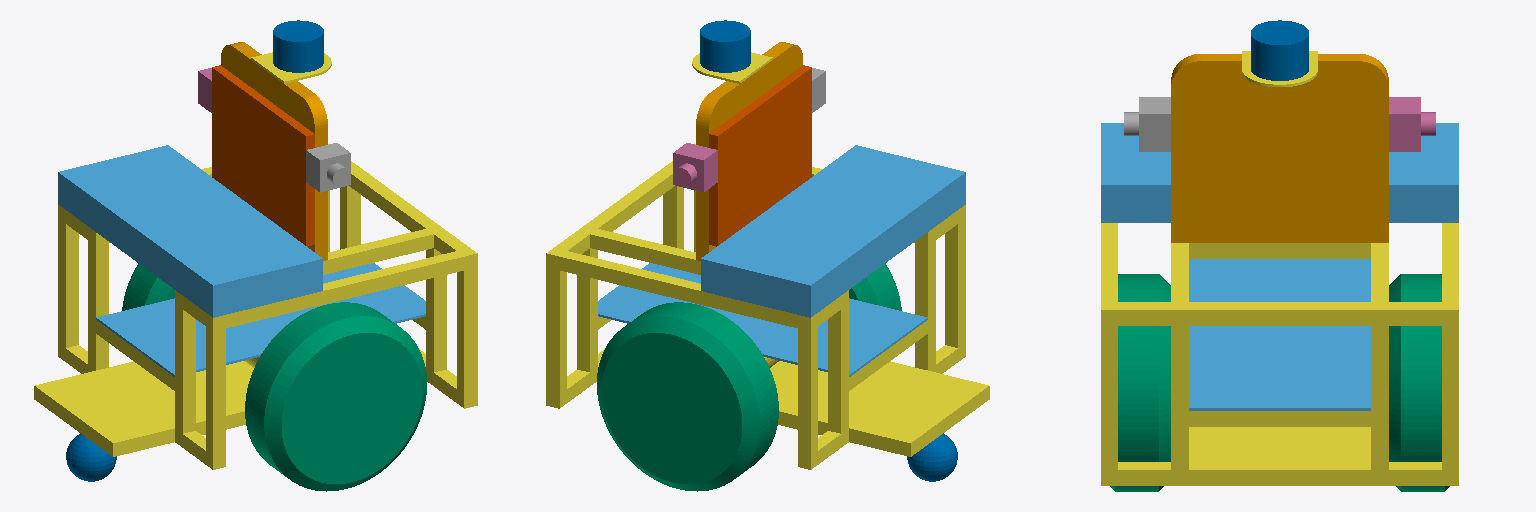
URDF robot description (sirius):
<robot name="sirius">
<link name="base_link"/>

<joint name="base_link_to_Frame" type="fixed">
    <parent link="base_link"/>
    <child link="Frame"/>
    <!-- 上に455mm, Z軸で１８０度回転 -->
    <origin xyz="0 0 0.455" rpy="0 0 3.141592653589793"/>
</joint>

<link name="MDF">
    <inertial>
        <origin xyz="0.0 0.0 -0.1875" rpy="0.0 0.0 0.0" />
        <mass value="7.300499999999998" />
        <inertia ixx="0.058480046875000025" iyy="0.21903020937500006" izz="0.2774798375" ixy="0.0" iyz="1.4279066817834973e-18" ixz="1.4279066817834973e-18" />
    </inertial>
    <visual name="MDF_visual">
        <origin xyz="0.0 0.0 0.0" rpy="0.0 0.0 0.0" />
        <geometry>
            <mesh filename="package://Sirius_description/meshes/MDF.stl" scale="0.001 0.001 0.001" />
        </geometry>
    </visual>
    <collision name="MDF_collision">
        <origin xyz="0.0 0.0 0.0" rpy="0.0 0.0 0.0" />
        <geometry>
            <mesh filename="package://Sirius_description/meshes/MDF.stl" scale="0.001 0.001 0.001" />
        </geometry>
    </collision>
</link>
<link name="Right_Wheel">
    <inertial>
        <origin xyz="-2.4424906541753444e-17 3.552713678800501e-17 0.06249999999999993" rpy="0.0 -0.0 0.0" />
        <mass value="100.05890789374806" />
        <inertia ixx="0.9387204983052868" iyy="0.9387204983053428" izz="1.6349121401939106" ixy="1.9984014443252818e-15" iyz="0.0" ixz="-1.1102230246251565e-16" />
    </inertial>
    <visual name="Right_Wheel_visual">
        <origin xyz="0.015 -0.27 -0.18" rpy="1.5707963267948966 -0.0 0.0" />
        <geometry>
            <mesh filename="package://Sirius_description/meshes/Right_Wheel.stl" scale="0.001 0.001 0.001" />
        </geometry>
    </visual>
    <collision name="Right_Wheel_collision">
        <origin xyz="0.015 -0.27 -0.18" rpy="1.5707963267948966 -0.0 0.0" />
        <geometry>
            <mesh filename="package://Sirius_description/meshes/Right_Wheel.stl" scale="0.001 0.001 0.001" />
        </geometry>
    </collision>
</link>
<link name="LiDAR_Support">
    <inertial>
        <origin xyz="-0.052820883669245824 1.1537955902002506e-16 0.3425" rpy="0.0 0.0 0.0" />
        <mass value="0.3093933392343076" />
        <inertia ixx="0.0005861375596076246" iyy="0.000575193141818392" izz="0.0011600415625125382" ixy="-8.146523068880001e-19" iyz="-8.366640713575181e-19" ixz="-1.734723475976807e-18" />
    </inertial>
    <visual name="LiDAR_Support_visual">
        <origin xyz="0.0 0.0 0.0" rpy="0.0 0.0 0.0" />
        <geometry>
            <mesh filename="package://Sirius_description/meshes/LiDAR_Support.stl" scale="0.001 0.001 0.001" />
        </geometry>
    </visual>
    <collision name="LiDAR_Support_collision">
        <origin xyz="0.0 0.0 0.0" rpy="0.0 0.0 0.0" />
        <geometry>
            <mesh filename="package://Sirius_description/meshes/LiDAR_Support.stl" scale="0.001 0.001 0.001" />
        </geometry>
    </collision>
</link>
<link name="LiDAR">
    <inertial>
        <origin xyz="-0.07 -2.4125096250508447e-17 0.37599999999999995" rpy="0.0 0.0 0.0" />
        <mass value="4.439070419522379" />
        <inertia ixx="0.004692097433435238" iyy="0.004692097433435571" izz="0.005548838024402897" ixy="-1.0709300113376216e-18" iyz="-1.7134880181401884e-18" ixz="0.0" />
    </inertial>
    <visual name="LiDAR_visual">
        <origin xyz="0.0 0.0 0.0" rpy="0.0 0.0 0.0" />
        <geometry>
            <mesh filename="package://Sirius_description/meshes/LiDAR.stl" scale="0.001 0.001 0.001" />
        </geometry>
    </visual>
    <collision name="LiDAR_collision">
        <origin xyz="0.0 0.0 0.0" rpy="0.0 0.0 0.0" />
        <geometry>
            <mesh filename="package://Sirius_description/meshes/LiDAR.stl" scale="0.001 0.001 0.001" />
        </geometry>
    </collision>
</link>
<link name="Display">
    <inertial>
        <origin xyz="0.009999999999999998 0.0 0.16" rpy="0.0 0.0 0.0" />
        <mass value="13.941599999999996" />
        <inertia ixx="0.22597009999999979" iyy="0.06738439999999996" izz="0.1595151399999998" ixy="0.0" iyz="4.5693013817071915e-17" ixz="3.469446951953614e-18" />
    </inertial>
    <visual name="Display_visual">
        <origin xyz="0.0 0.0 0.0" rpy="0.0 0.0 0.0" />
        <geometry>
            <mesh filename="package://Sirius_description/meshes/Display.stl" scale="0.001 0.001 0.001" />
        </geometry>
    </visual>
    <collision name="Display_collision">
        <origin xyz="0.0 0.0 0.0" rpy="0.0 0.0 0.0" />
        <geometry>
            <mesh filename="package://Sirius_description/meshes/Display.stl" scale="0.001 0.001 0.001" />
        </geometry>
    </collision>
</link>
<link name="Left_ESB">
    <inertial>
        <origin xyz="-0.014999999999999998 -0.21667604038411042 0.215" rpy="0.0 0.0 0.0" />
        <mass value="2.3621900233067987" />
        <inertia ixx="0.0017880560898025089" iyy="0.0017770425879946872" izz="0.0017880560898024533" ixy="0.0" iyz="0.0" ixz="-1.734723475976807e-18" />
    </inertial>
    <visual name="Left_ESB_visual">
        <origin xyz="0.0 0.0 0.0" rpy="0.0 0.0 0.0" />
        <geometry>
            <mesh filename="package://Sirius_description/meshes/Left_ESB.stl" scale="0.001 0.001 0.001" />
        </geometry>
    </visual>
    <collision name="Left_ESB_collision">
        <origin xyz="0.0 0.0 0.0" rpy="0.0 0.0 0.0" />
        <geometry>
            <mesh filename="package://Sirius_description/meshes/Left_ESB.stl" scale="0.001 0.001 0.001" />
        </geometry>
    </collision>
</link>
<link name="Right_ESB">
    <inertial>
        <origin xyz="-0.014999999999999998 0.21667604038411042 0.215" rpy="0.0 0.0 0.0" />
        <mass value="2.3621900233067987" />
        <inertia ixx="0.0017880560898025089" iyy="0.0017770425879946872" izz="0.001788056089802481" ixy="-1.734723475976807e-18" iyz="0.0" ixz="-1.734723475976807e-18" />
    </inertial>
    <visual name="Right_ESB_visual">
        <origin xyz="0.0 0.0 0.0" rpy="0.0 0.0 0.0" />
        <geometry>
            <mesh filename="package://Sirius_description/meshes/Right_ESB.stl" scale="0.001 0.001 0.001" />
        </geometry>
    </visual>
    <collision name="Right_ESB_collision">
        <origin xyz="0.0 0.0 0.0" rpy="0.0 0.0 0.0" />
        <geometry>
            <mesh filename="package://Sirius_description/meshes/Right_ESB.stl" scale="0.001 0.001 0.001" />
        </geometry>
    </collision>
</link>
<link name="Display_Bg">
    <inertial>
        <origin xyz="-0.014999999999999998 0.0 0.16863359351883772" rpy="0.0 0.0 0.0" />
        <mass value="29.373206337400482" />
        <inertia ixx="0.6092684729448462" iyy="0.2811472839601523" izz="0.3325271699353042" ixy="2.2846506908535957e-17" iyz="0.0" ixz="1.3877787807814457e-17" />
    </inertial>
    <visual name="Display_Bg_visual">
        <origin xyz="0.0 0.0 0.0" rpy="0.0 0.0 0.0" />
        <geometry>
            <mesh filename="package://Sirius_description/meshes/Display_Bg.stl" scale="0.001 0.001 0.001" />
        </geometry>
    </visual>
    <collision name="Display_Bg_collision">
        <origin xyz="0.0 0.0 0.0" rpy="0.0 0.0 0.0" />
        <geometry>
            <mesh filename="package://Sirius_description/meshes/Display_Bg.stl" scale="0.001 0.001 0.001" />
        </geometry>
    </collision>
</link>
<link name="Case">
    <inertial>
        <origin xyz="0.17500000000000002 0.0 0.035" rpy="0.0 0.0 0.0" />
        <mass value="83.79874999999998" />
        <inertia ixx="2.6326773958333343" iyy="0.47066964583333304" izz="3.034911395833333" ixy="0.0" iyz="-1.8277205526828766e-16" ixz="1.1102230246251565e-16" />
    </inertial>
    <visual name="Case_visual">
        <origin xyz="0.0 0.0 0.0" rpy="0.0 0.0 0.0" />
        <geometry>
            <mesh filename="package://Sirius_description/meshes/Case.stl" scale="0.001 0.001 0.001" />
        </geometry>
    </visual>
    <collision name="Case_collision">
        <origin xyz="0.0 0.0 0.0" rpy="0.0 0.0 0.0" />
        <geometry>
            <mesh filename="package://Sirius_description/meshes/Case.stl" scale="0.001 0.001 0.001" />
        </geometry>
    </collision>
</link>
<link name="Left_Wheel">
    <inertial>
        <origin xyz="-2.4424906541753444e-17 -3.552713678800501e-17 0.0625" rpy="0.0 -0.0 0.0" />
        <mass value="100.05890789374806" />
        <inertia ixx="0.9387204983052886" iyy="0.9387204983053437" izz="1.6349121401939106" ixy="-1.9984014443252818e-15" iyz="-2.6645352591003757e-15" ixz="-5.551115123125783e-17" />
    </inertial>
    <visual name="Left_Wheel_visual">
        <origin xyz="0.015 0.27 -0.18" rpy="-1.5707963267948966 -0.0 0.0" />
        <geometry>
            <mesh filename="package://Sirius_description/meshes/Left_Wheel.stl" scale="0.001 0.001 0.001" />
        </geometry>
    </visual>
    <collision name="Left_Wheel_collision">
        <origin xyz="0.015 0.27 -0.18" rpy="-1.5707963267948966 -0.0 0.0" />
        <geometry>
            <mesh filename="package://Sirius_description/meshes/Left_Wheel.stl" scale="0.001 0.001 0.001" />
        </geometry>
    </collision>
</link>
<link name="Frame">
    <inertial>
        <origin xyz="0.02336046562605979 -3.391591384159738e-16 -0.22499410556332286" rpy="0.0 0.0 0.0" />
        <mass value="121.25196634073023" />
        <inertia ixx="4.632371381951651" iyy="7.237356930641641" izz="8.42852456545905" ixy="-2.4355492145103126e-14" iyz="-9.826421981859261e-16" ixz="0.4667578254363328" />
    </inertial>
    <visual name="Frame_visual">
        <origin xyz="0.0 0.0 0.0" rpy="0.0 0.0 0.0" />
        <geometry>
            <mesh filename="package://Sirius_description/meshes/Frame.stl" scale="0.001 0.001 0.001" />
        </geometry>
    </visual>
    <collision name="Frame_collision">
        <origin xyz="0.0 0.0 0.0" rpy="0.0 0.0 0.0" />
        <geometry>
            <mesh filename="package://Sirius_description/meshes/Frame.stl" scale="0.001 0.001 0.001" />
        </geometry>
    </collision>
</link>
<joint name="Frame_to_Case" type="fixed">
    <origin xyz="0.0 0.0 0.0" rpy="0.0 0.0 0.0" />
    <parent link="Frame" />
    <child link="Case" />
</joint>
<joint name="Frame_to_Display" type="fixed">
    <origin xyz="0.0 0.0 0.0" rpy="0.0 0.0 0.0" />
    <parent link="Frame" />
    <child link="Display" />
</joint>
<joint name="Frame_to_Display_Bg" type="fixed">
    <origin xyz="0.0 0.0 0.0" rpy="0.0 0.0 0.0" />
    <parent link="Frame" />
    <child link="Display_Bg" />
</joint>
<joint name="Frame_to_LiDAR_Support" type="fixed">
    <origin xyz="0.0 0.0 0.0" rpy="0.0 0.0 0.0" />
    <parent link="Frame" />
    <child link="LiDAR_Support" />
</joint>
<joint name="Frame_to_LiDAR" type="fixed">
    <origin xyz="0.0 0.0 0.0" rpy="0.0 0.0 0.0" />
    <parent link="Frame" />
    <child link="LiDAR" />
</joint>
<joint name="Frame_to_Left_ESB" type="fixed">
    <origin xyz="0.0 0.0 0.0" rpy="0.0 0.0 0.0" />
    <parent link="Frame" />
    <child link="Left_ESB" />
</joint>
<joint name="Frame_to_Right_ESB" type="fixed">
    <origin xyz="0.0 0.0 0.0" rpy="0.0 0.0 0.0" />
    <parent link="Frame" />
    <child link="Right_ESB" />
</joint>
<joint name="Frame_to_MDF" type="fixed">
    <origin xyz="0.0 0.0 0.0" rpy="0.0 0.0 0.0" />
    <parent link="Frame" />
    <child link="MDF" />
</joint>

<link name="Caster">
    <inertial>
        <origin xyz="0.0 0.0 0.0" rpy="0.0 0.0 0.0" />
        <mass value="1.0" />
        <inertia ixx="0.001" iyy="0.001" izz="0.001" ixy="0.0" iyz="0.0" ixz="0.0" />
    </inertial>
    <visual name="Caster_visual">
        <origin xyz="0.0 0.0 0.0" rpy="0.0 0.0 0.0" />
        <geometry>
            <sphere radius="0.05" />
        </geometry>
    </visual>
    <collision name="Caster_collision">
        <origin xyz="0.0 0.0 0.0" rpy="0.0 0.0 0.0" />
        <geometry>
            <sphere radius="0.05" />
        </geometry>
    </collision>
</link>

<joint name="Frame_to_Caster" type="continuous">
    <origin xyz="0.4 0.0 -0.40" rpy="0.0 0.0 0.0" />
    <parent link="Frame" />
    <child link="Caster" />
    <axis xyz="0 0 1" />
</joint>
<joint name="Frame_Revolute-5" type="continuous">
    <origin xyz="-0.015 -0.18 -0.27" rpy="1.5707963267948966 -0.0 0.0" />
    <parent link="Frame" />
    <child link="Left_Wheel" />
    <axis xyz="0.0 0.0 1.0" />
</joint>
<joint name="Frame_Revolute-6" type="continuous">
    <origin xyz="-0.015 0.18 -0.27" rpy="-1.5707963267948966 -0.0 0.0" />
    <parent link="Frame" />
    <child link="Right_Wheel" />
    <axis xyz="0.0 0.0 -1.0" />
</joint>
</robot>

--- What the picture shows (computed from the rendered views, not written in the file) ---
Views: 3 orthographic renders of the robot side by side, from view 1: azimuth 30°, elevation 25°; view 2: azimuth 150°, elevation 25°; view 3: azimuth 270°, elevation 25°.
Robot: sirius — 13 links, 12 joints (3 continuous, 9 fixed); root link base_link; default pose: all joints at 0.
Visible links, largest first — view 1: Frame, Right_Wheel, Case, Display, MDF, Display_Bg, LiDAR, Right_ESB, Caster, Left_Wheel, LiDAR_Support, Left_ESB; view 2: Frame, Left_Wheel, Case, Display, MDF, Display_Bg, LiDAR, Left_ESB, Caster, Right_Wheel, LiDAR_Support, Right_ESB; view 3: Frame, Display_Bg, MDF, Case, Right_Wheel, Left_Wheel, LiDAR, Left_ESB, Right_ESB, LiDAR_Support.
Boxes of the visible links, x1,y1,x2,y2 form: Frame: (34, 144, 477, 469); Right_Wheel: (245, 302, 426, 491); Case: (58, 145, 322, 317); Display: (212, 65, 314, 246); MDF: (96, 263, 425, 376); Display_Bg: (221, 42, 327, 260); LiDAR: (273, 20, 323, 72); Right_ESB: (306, 143, 350, 192); Caster: (66, 433, 116, 481); Left_Wheel: (122, 263, 174, 310); LiDAR_Support: (251, 52, 331, 83); Left_ESB: (198, 68, 211, 112); Frame: (546, 144, 989, 469); Left_Wheel: (597, 302, 778, 491); Case: (701, 145, 965, 317); Display: (709, 65, 811, 246); MDF: (598, 263, 927, 376); Display_Bg: (696, 42, 802, 260); LiDAR: (700, 20, 750, 72); Left_ESB: (673, 143, 717, 192); Caster: (907, 433, 957, 481); Right_Wheel: (849, 263, 901, 310); LiDAR_Support: (692, 52, 772, 83); Right_ESB: (812, 68, 825, 112); Frame: (1101, 223, 1458, 485); Display_Bg: (1171, 54, 1388, 242); MDF: (1189, 259, 1370, 410); Case: (1101, 123, 1458, 222); Right_Wheel: (1110, 274, 1170, 491); Left_Wheel: (1389, 274, 1449, 491); LiDAR: (1251, 20, 1308, 80); Left_ESB: (1389, 97, 1435, 151); Right_ESB: (1124, 97, 1170, 151); LiDAR_Support: (1242, 51, 1317, 86).
Size in the robot's own frame: 0.75 by 0.61 by 0.867 metres.
Meshes: 11 distinct files referenced, 11 mesh visuals loaded (11 binary STL).